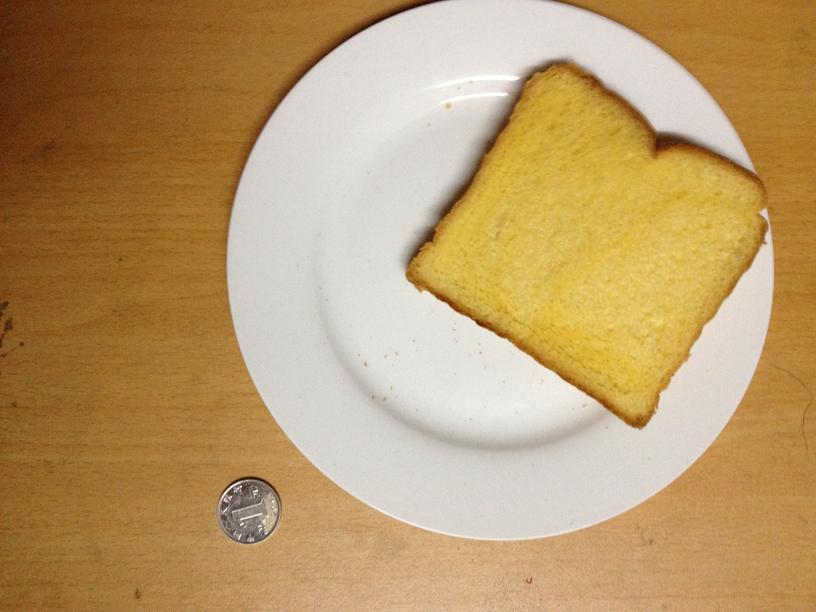bread: (404, 55, 769, 431)
coin: (214, 478, 283, 544)
